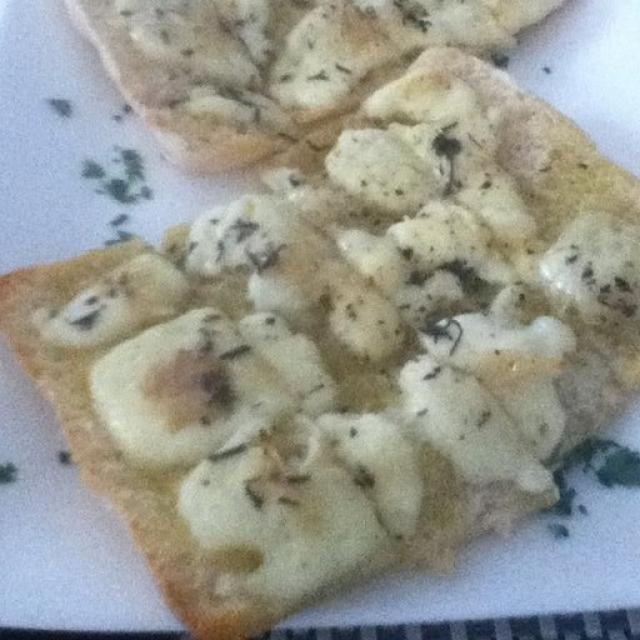Cheese: (184, 428, 406, 558), (74, 331, 295, 443), (418, 315, 570, 450), (324, 108, 512, 215), (192, 208, 339, 308), (271, 2, 404, 95), (134, 7, 254, 90), (363, 222, 490, 296), (529, 228, 640, 301), (52, 274, 176, 336), (357, 49, 464, 100)
Pizza: (0, 0, 640, 640)
